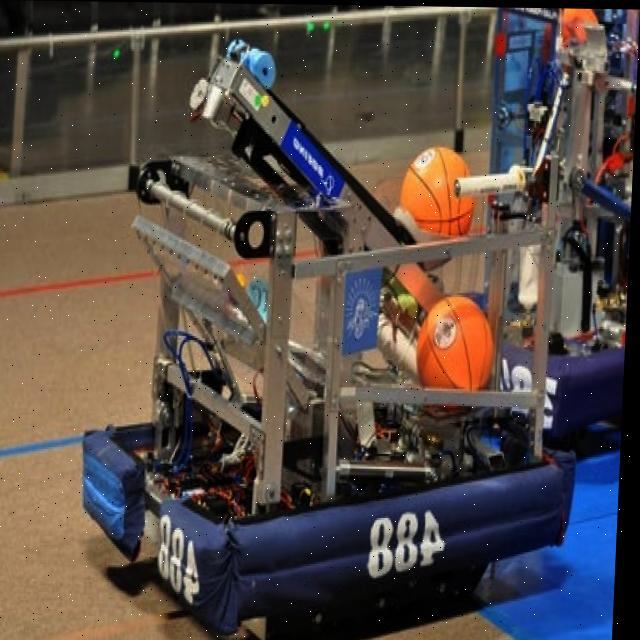robot: (81, 52, 590, 634), (478, 6, 640, 440)
